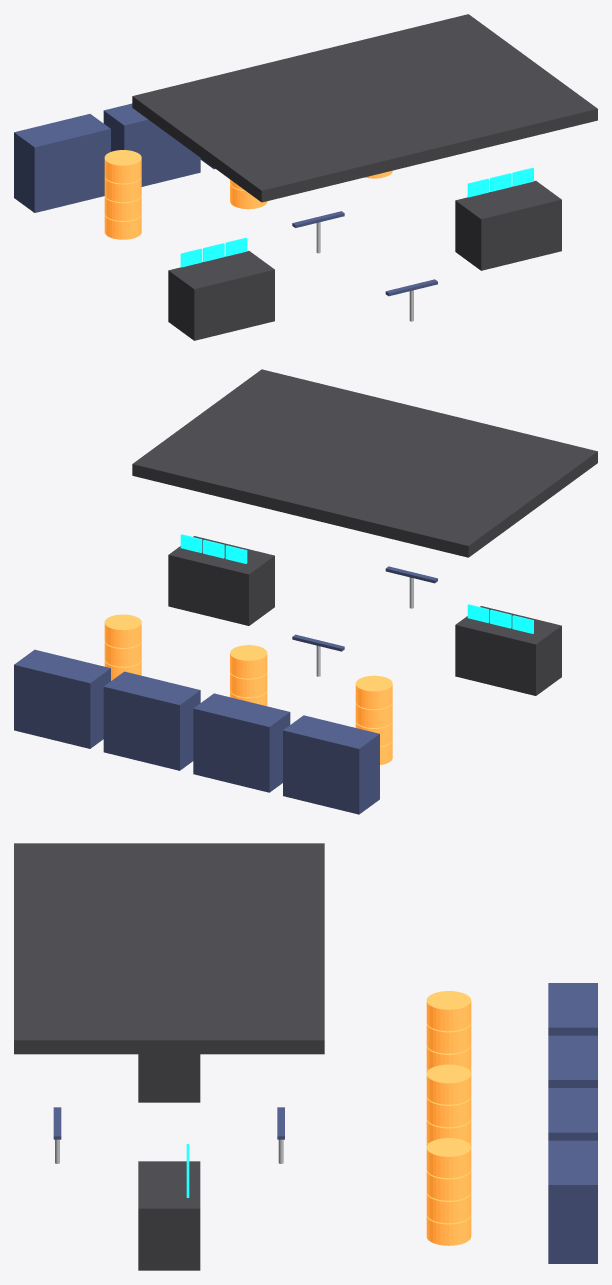
Rendered from Hero_RedBull_Garage.fbx.
3 renders of one model, top to bottom at view 1: azimuth 30°, elevation 25°; view 2: azimuth 150°, elevation 25°; view 3: azimuth 270°, elevation 25°, orthographic. The views are drawn at different scales.
Parts seen in each view (by area): view 1: Frame_Overhead_LightRig, Body_ToolCabinet_0, Body_TelemetryCart_LH, Body_TelemetryCart_RH, Body_ToolCabinet_1, TireStack_Soft_3, TireStack_Soft_0, TireStack_Soft_2, TireStack_Soft_1, TireStack_Medium_0; view 2: Frame_Overhead_LightRig, Body_ToolCabinet_0, Body_ToolCabinet_2, Body_ToolCabinet_1, Body_ToolCabinet_3, Body_TelemetryCart_RH, Body_TelemetryCart_LH, TireStack_Soft_3, TireStack_Medium_3, TireStack_Hard_3, TireStack_Medium_2, TireStack_Hard_2 (+1 smaller); view 3: Frame_Overhead_LightRig, Body_TelemetryCart_RH, Body_ToolCabinet_3, Body_TelemetryCart_LH, Body_ToolCabinet_0, Body_ToolCabinet_1, Body_ToolCabinet_2, TireStack_Medium_3, TireStack_Hard_3, TireStack_Soft_3, TireStack_Hard_1, TireStack_Medium_2 (+5 smaller).
Boxes of the visible parts, <box> form: Frame_Overhead_LightRig: <box>132,14,597,202</box>; Body_ToolCabinet_0: <box>14,114,110,212</box>; Body_TelemetryCart_LH: <box>168,251,274,340</box>; Body_TelemetryCart_RH: <box>455,180,561,270</box>; Body_ToolCabinet_1: <box>103,103,200,186</box>; TireStack_Soft_3: <box>104,150,141,183</box>; TireStack_Soft_0: <box>104,214,141,239</box>; TireStack_Soft_2: <box>104,177,141,202</box>; TireStack_Soft_1: <box>104,196,141,220</box>; TireStack_Medium_0: <box>230,183,267,209</box>; Frame_Overhead_LightRig: <box>132,369,597,557</box>; Body_ToolCabinet_0: <box>283,715,379,814</box>; Body_ToolCabinet_2: <box>103,671,200,770</box>; Body_ToolCabinet_1: <box>193,693,290,792</box>; Body_ToolCabinet_3: <box>14,649,110,748</box>; Body_TelemetryCart_RH: <box>168,536,274,625</box>; Body_TelemetryCart_LH: <box>455,606,561,695</box>; TireStack_Soft_3: <box>355,675,392,709</box>; TireStack_Medium_3: <box>230,645,267,678</box>; TireStack_Hard_3: <box>104,614,141,647</box>; TireStack_Medium_2: <box>230,672,267,697</box>; TireStack_Hard_2: <box>104,641,141,666</box>; Frame_Overhead_LightRig: <box>14,843,324,1054</box>; Body_TelemetryCart_RH: <box>138,1161,200,1270</box>; Body_ToolCabinet_3: <box>548,1140,597,1263</box>; Body_TelemetryCart_LH: <box>138,1054,200,1102</box>; Body_ToolCabinet_0: <box>548,983,597,1035</box>; Body_ToolCabinet_1: <box>548,1035,597,1087</box>; Body_ToolCabinet_2: <box>548,1088,597,1140</box>; TireStack_Medium_3: <box>426,1064,471,1104</box>; TireStack_Hard_3: <box>426,1138,471,1178</box>; TireStack_Soft_3: <box>426,991,471,1031</box>; TireStack_Hard_1: <box>426,1192,471,1223</box>; TireStack_Medium_2: <box>426,1096,471,1127</box>.
Size of the model in its own units: 8.2 by 3.93 by 9.4.
